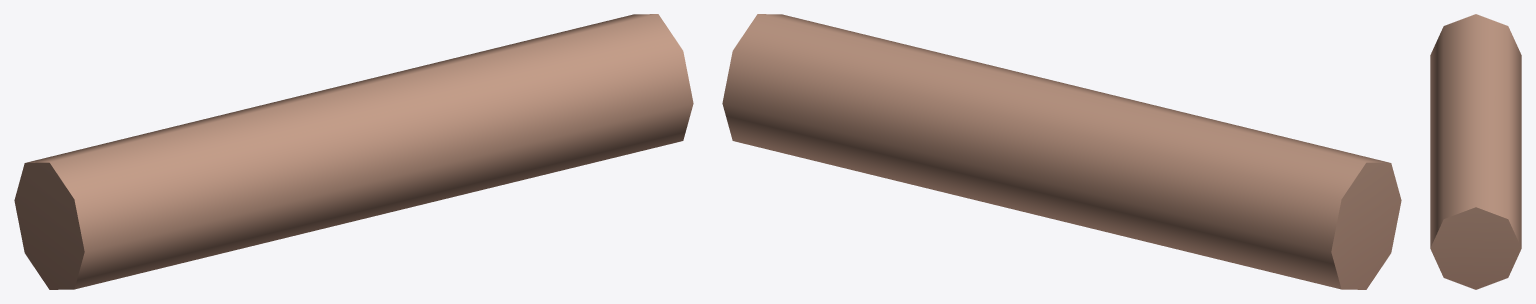
File: planks-rod-round.glb
3 views of the same model, side by side, from view 1: azimuth 30°, elevation 25°; view 2: azimuth 150°, elevation 25°; view 3: azimuth 270°, elevation 25° (orthographic). The views are drawn at different scales.
Visible parts, largest first — view 1: planks-rod-round; view 2: planks-rod-round; view 3: planks-rod-round.
Boxes of the visible parts, bbox=[...] form: planks-rod-round: bbox=[14, 14, 693, 289]; planks-rod-round: bbox=[722, 14, 1401, 289]; planks-rod-round: bbox=[1430, 14, 1521, 289].
Bounding box in the file's own units: 0.5 × 0.1 × 0.1.
